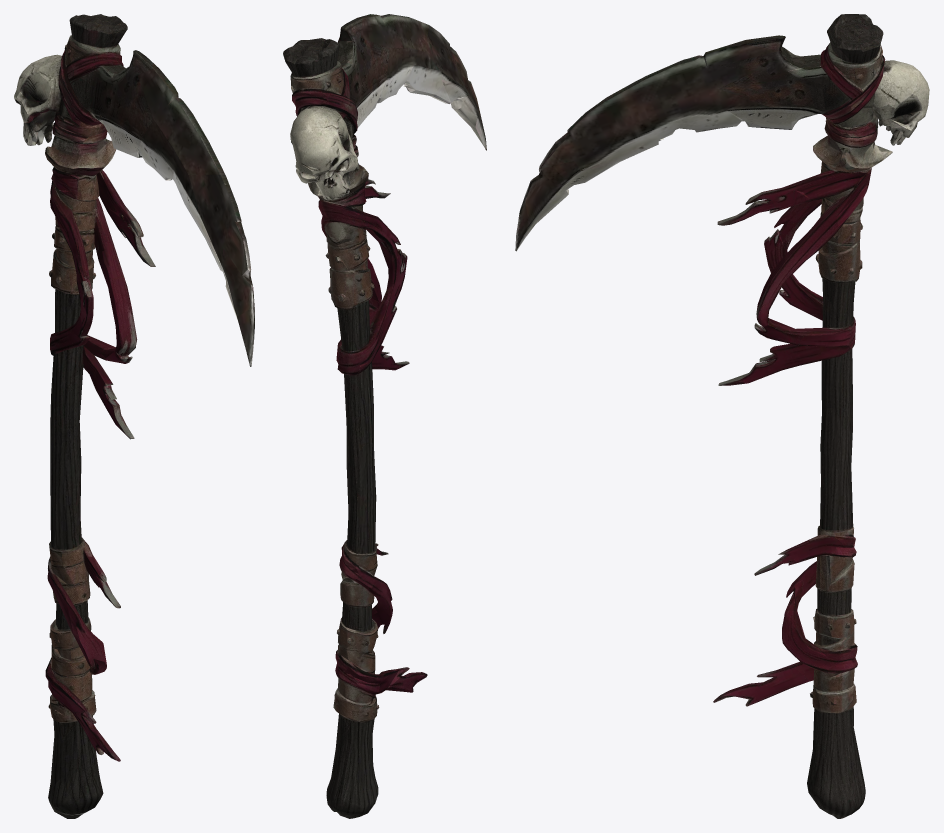
Rendered from scythe.glb.
3 renders of one model, left to right at view 1: azimuth 30°, elevation 25°; view 2: azimuth 150°, elevation 25°; view 3: azimuth 270°, elevation 25°, orthographic. The views are drawn at different scales.
Visible parts, largest first — view 1: Scythe; view 2: Scythe; view 3: Scythe.
Boxes of the visible parts, <box> form: Scythe: <box>14,14,254,818</box>; Scythe: <box>283,14,486,818</box>; Scythe: <box>515,14,929,818</box>.
Bounding box in the file's own units: 0.3286 × 2.9 × 1.34.
1 material, 1 textured.
